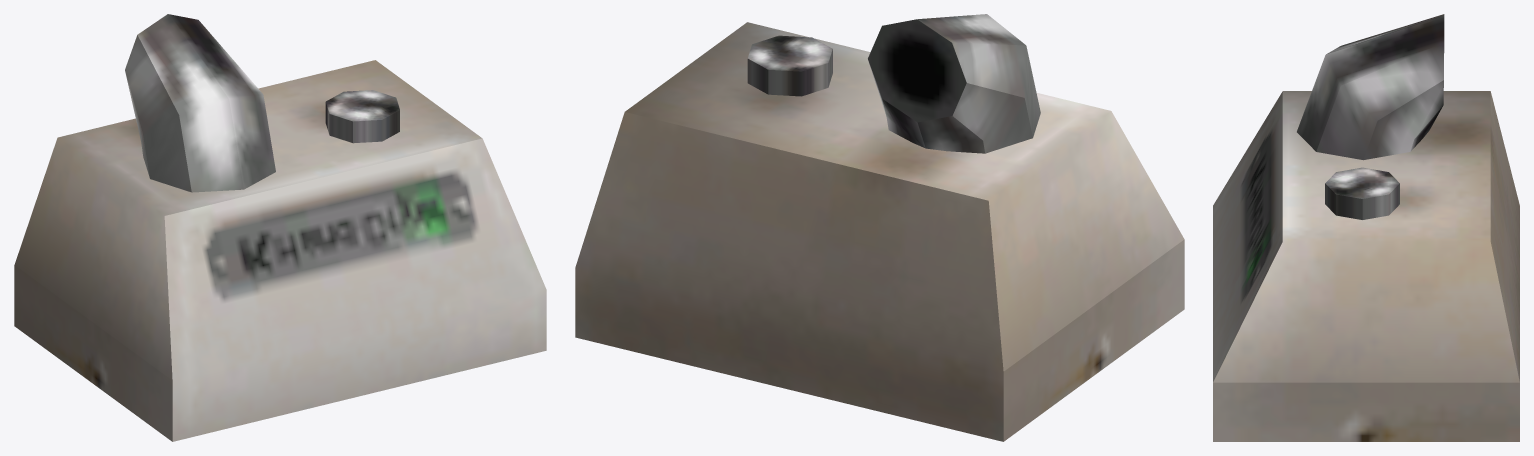
Rendered from handdryer.fbx.
The picture shows the model from 3 angles, left to right: view 1: azimuth 30°, elevation 25°; view 2: azimuth 150°, elevation 25°; view 3: azimuth 270°, elevation 25°; orthographic projection. The views are drawn at different scales.
Visible parts, largest first — view 1: mesh_0; view 2: mesh_0; view 3: mesh_0.
Part boxes in pixels (box(x1,y1,x2,y2)): mesh_0: box(14, 14, 546, 441); mesh_0: box(575, 14, 1184, 441); mesh_0: box(1213, 14, 1519, 441).
Bounding box in the file's own units: 39.92 × 31.91 × 29.23.
1 material, 1 textured.
